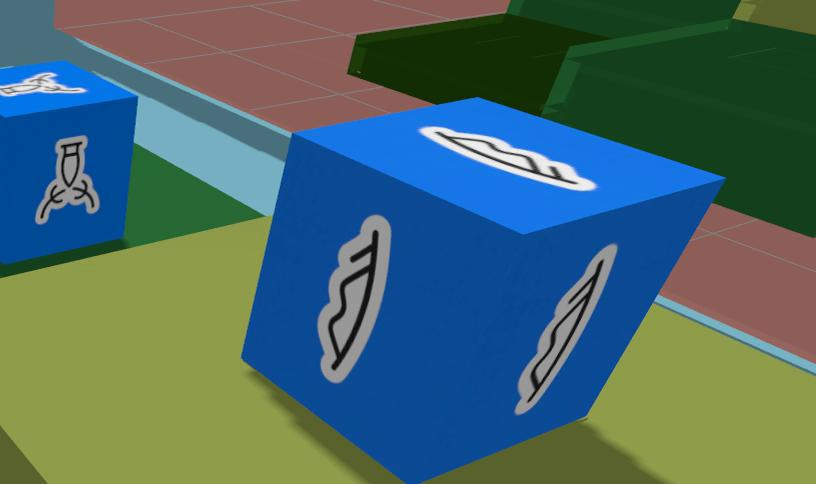KFS_REAL: (0, 61, 136, 263), (515, 244, 616, 414), (317, 215, 390, 383), (317, 216, 390, 382), (419, 126, 596, 190), (35, 136, 99, 224), (35, 137, 99, 224), (0, 72, 85, 96)
